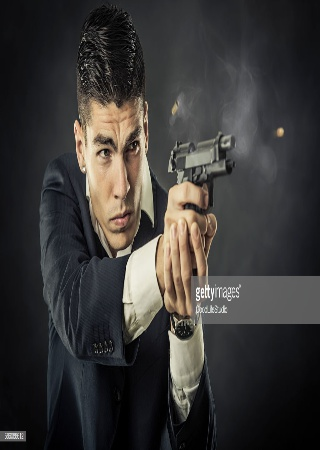handgun: (166, 131, 238, 220)
